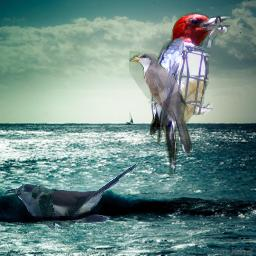Cuckoo: (4, 162, 142, 231), (129, 51, 195, 155)
Woodpecker: (150, 12, 235, 176)
